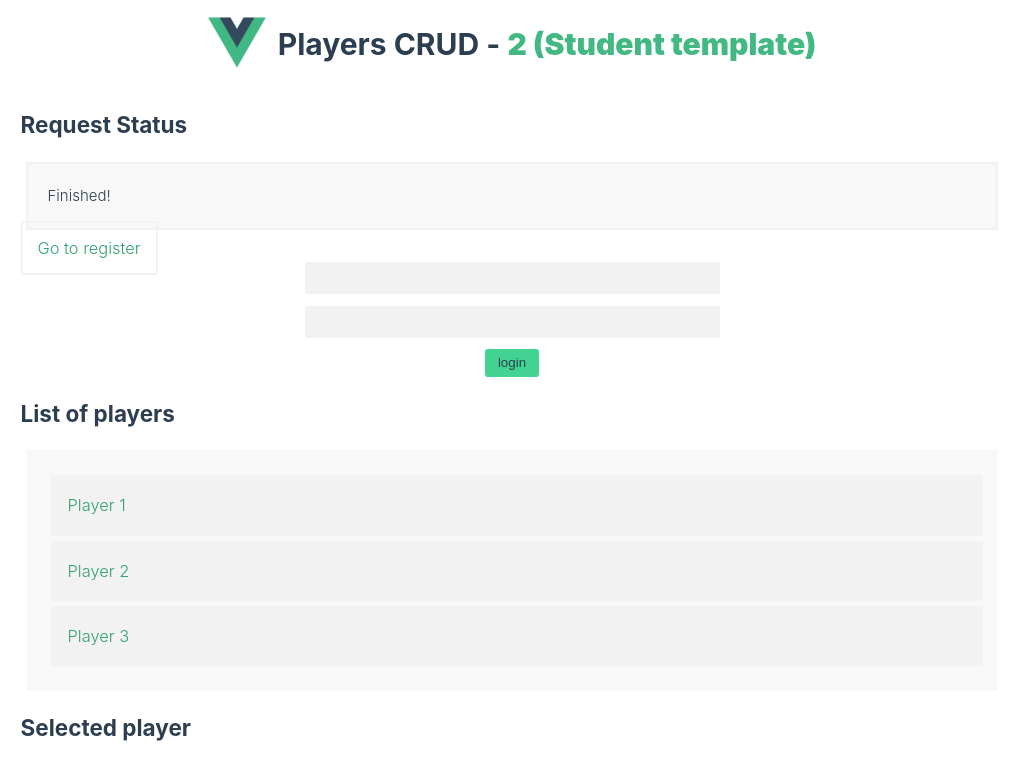
Test case: Requests: DELETE › should successfully complete deleting a player
Click the link "Player 2": (98, 571) [51,541,984,601]
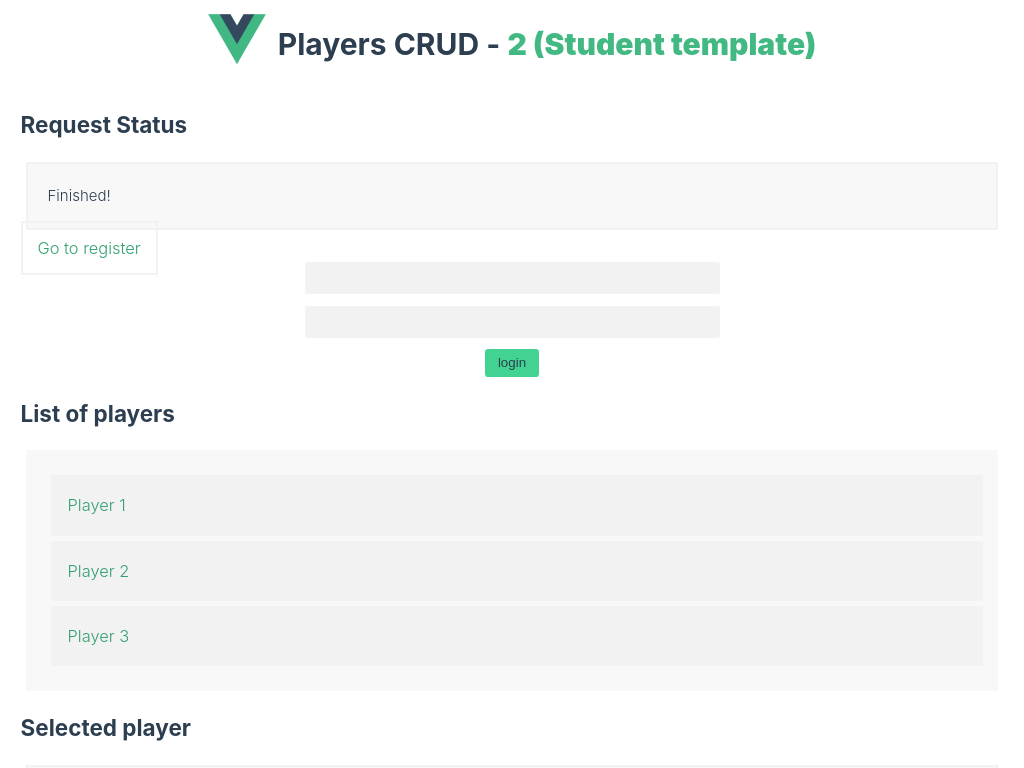
Expected: the text "Finished!" is shown, [26,162,998,230]
Scroll
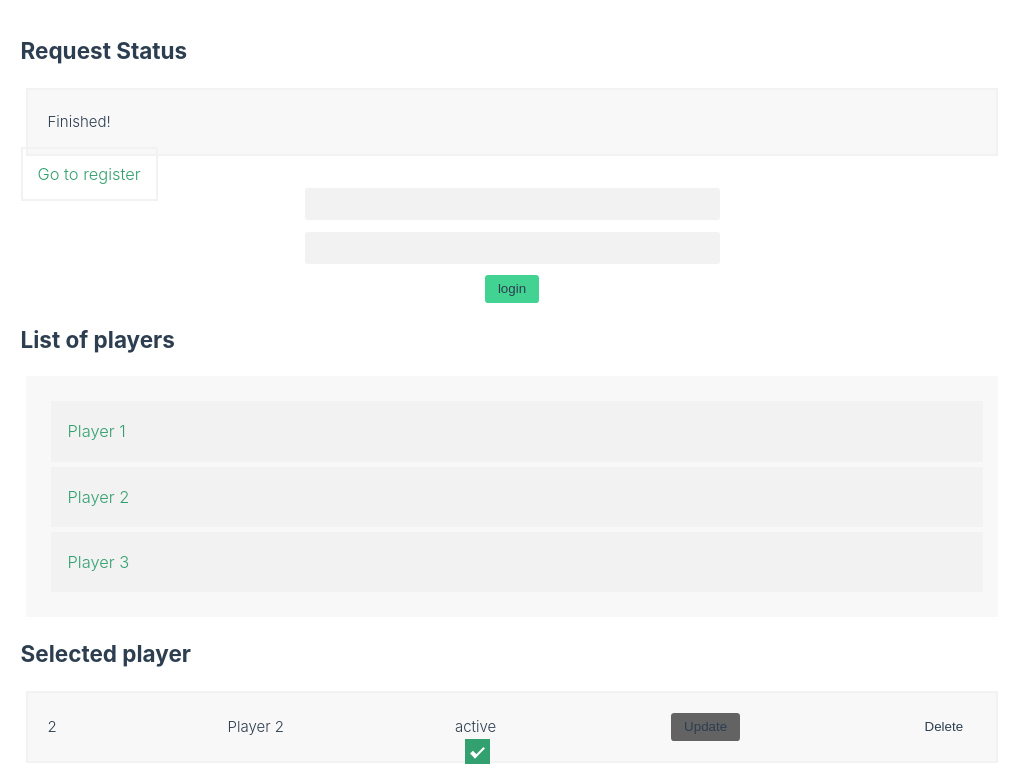
Click the button "Delete": (944, 727) [911,713,976,741]
(page scrolled)
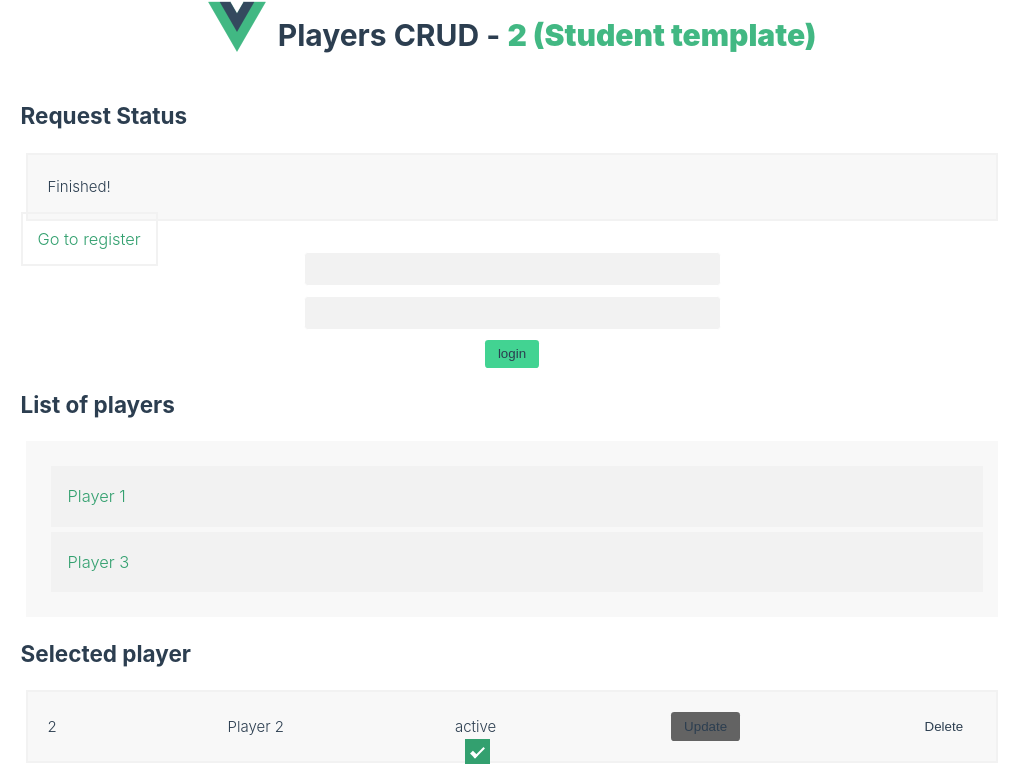
Expected: the text "Finished" is shown, [26,153,999,221]
Now the text "Player 2" is gone
